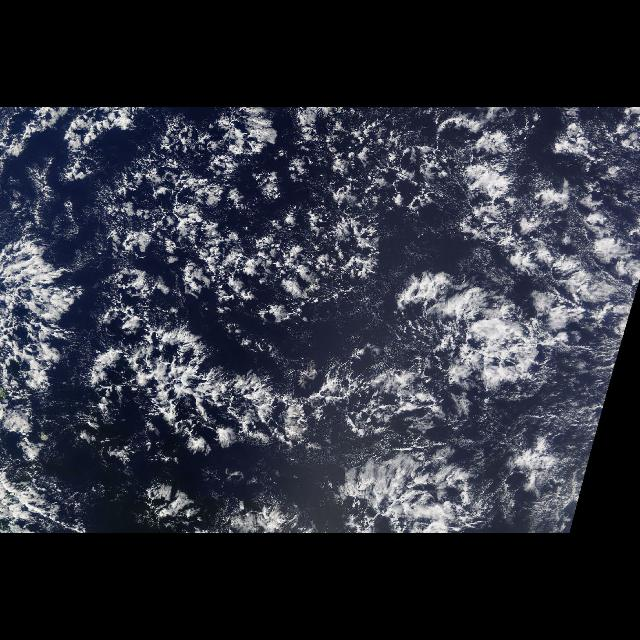Flower: (126, 121, 614, 436)
